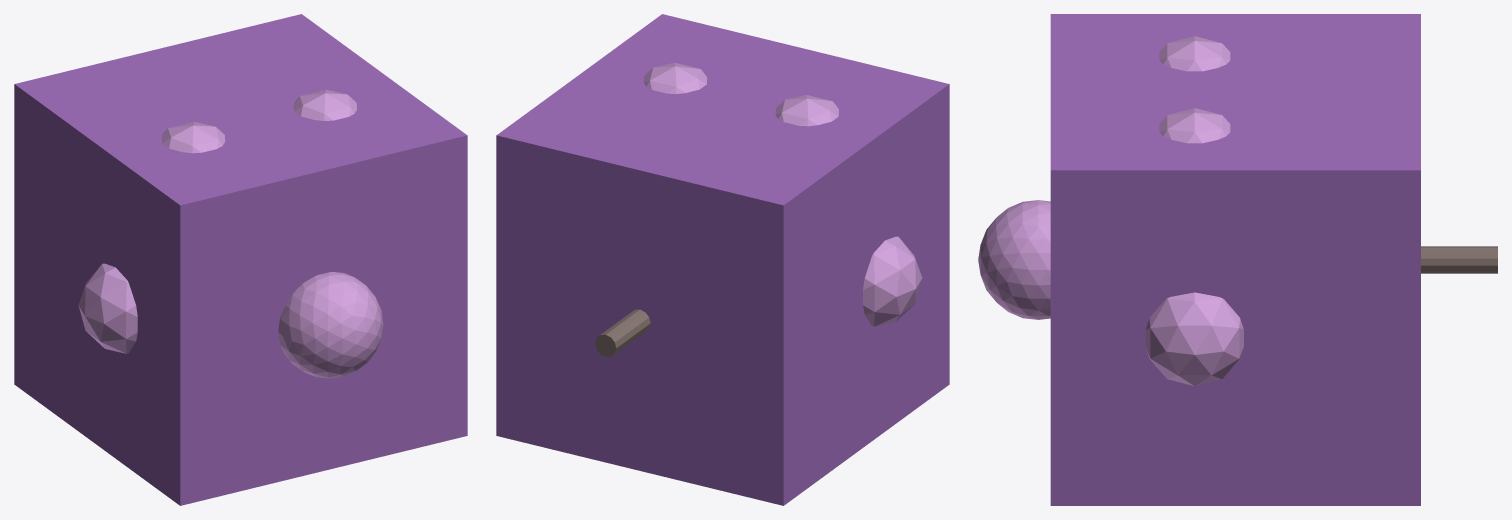
Rendered from lila_balloon.glb.
3 renders of one model, left to right at view 1: azimuth 30°, elevation 25°; view 2: azimuth 150°, elevation 25°; view 3: azimuth 270°, elevation 25°, orthographic. The views are drawn at different scales.
Visible parts, largest first — view 1: world; view 2: world; view 3: world.
Boxes of the visible parts, bbox=[...] form: world: bbox=[14, 14, 467, 505]; world: bbox=[496, 14, 949, 505]; world: bbox=[978, 14, 1497, 505].
Bounding box in the file's own units: 1.64 × 1.47 × 1.89.
